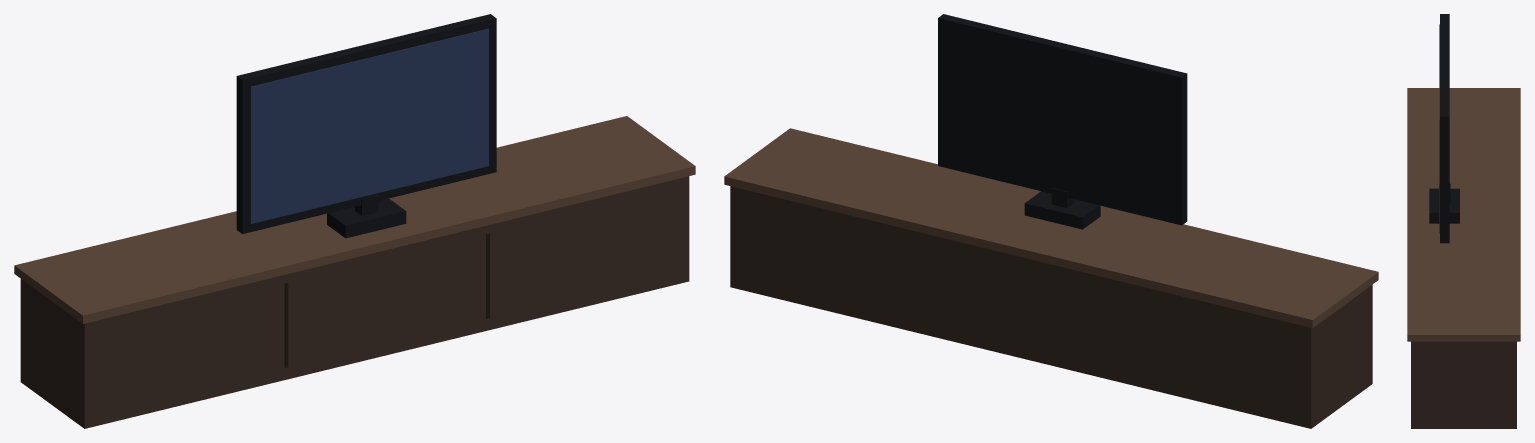
File: tv_stand.glb
3 renders of one model, left to right at view 1: azimuth 30°, elevation 25°; view 2: azimuth 150°, elevation 25°; view 3: azimuth 270°, elevation 25°, orthographic. The views are drawn at different scales.
Visible parts, largest first — view 1: tv_stand, screen; view 2: tv_stand; view 3: tv_stand, screen.
Boxes of the visible parts, bbox=[...] form: tv_stand: bbox=[14, 14, 695, 428]; screen: bbox=[250, 28, 488, 223]; tv_stand: bbox=[724, 14, 1378, 428]; tv_stand: bbox=[1407, 14, 1520, 428]; screen: bbox=[1439, 24, 1439, 233].
Bounding box in the file's own units: 3.04 × 1.39 × 0.59.
